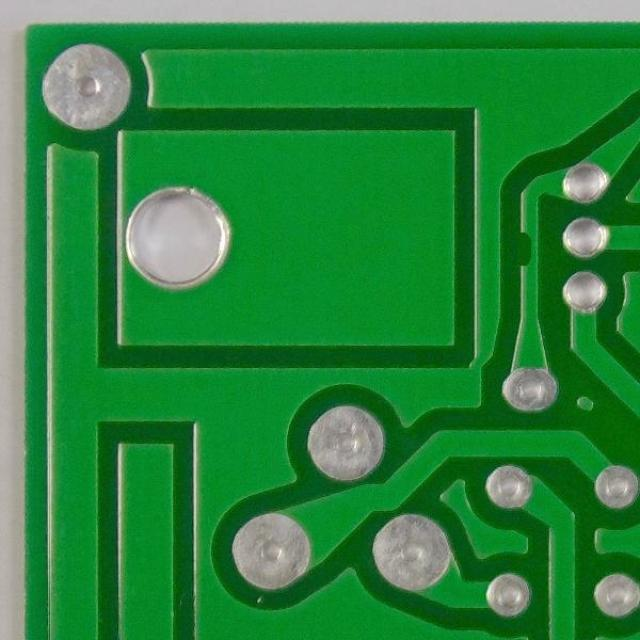MouseBite: (516, 223, 543, 275)
